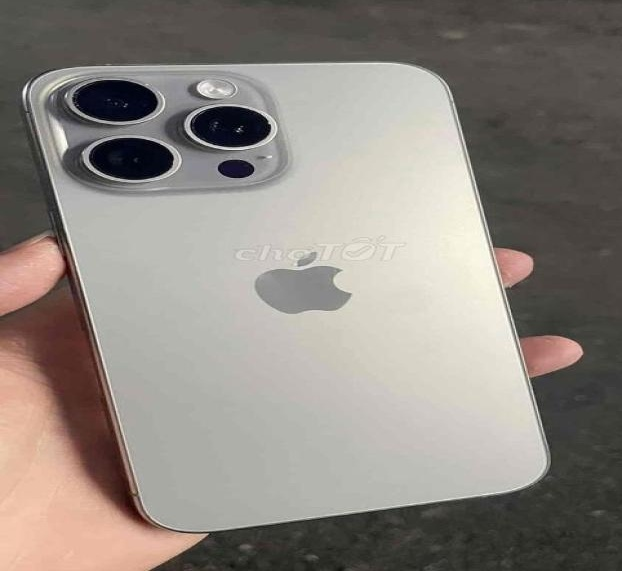physical_damage: (35, 110, 96, 160)
